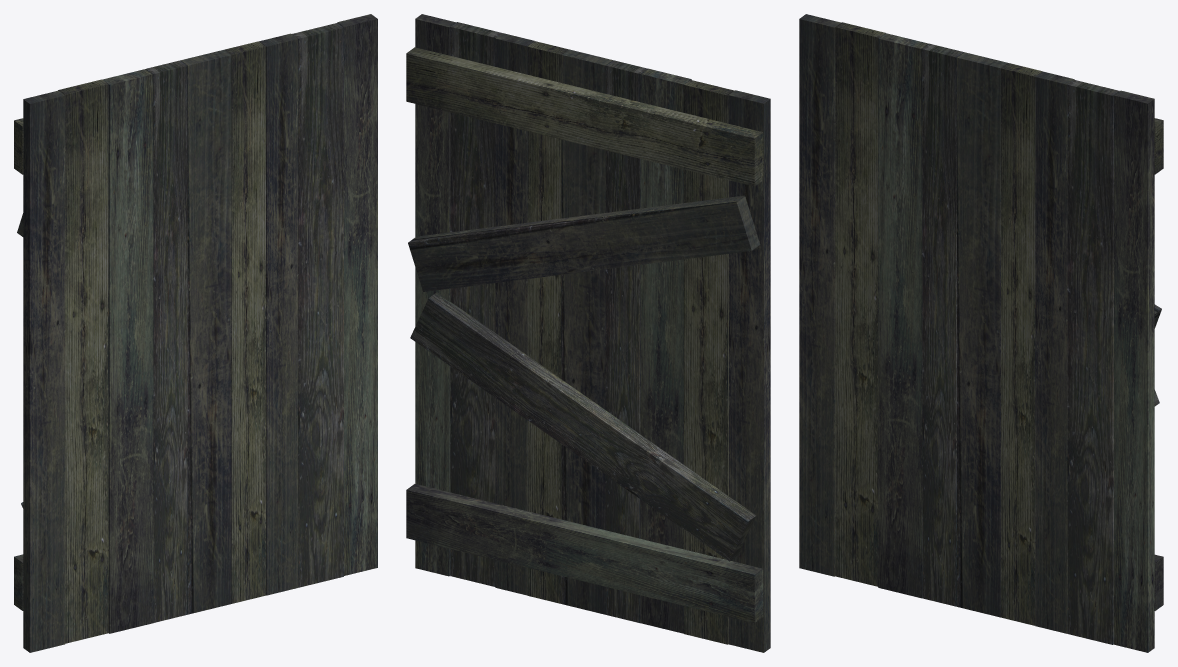
File: OldSmallWoodenWall 2m.fbx
The picture shows the model from 3 angles, left to right: view 1: azimuth 30°, elevation 25°; view 2: azimuth 150°, elevation 25°; view 3: azimuth 330°, elevation 25°; orthographic projection.
Parts seen in each view (by area): view 1: OldSmallWoodenWall_2m; view 2: OldSmallWoodenWall_2m; view 3: OldSmallWoodenWall_2m.
Part boxes in pixels (bbox=[...]): OldSmallWoodenWall_2m: bbox=[14, 14, 377, 652]; OldSmallWoodenWall_2m: bbox=[406, 14, 770, 652]; OldSmallWoodenWall_2m: bbox=[799, 14, 1163, 652].
Bounding box in the file's own units: 2 × 3.01 × 0.1628.
